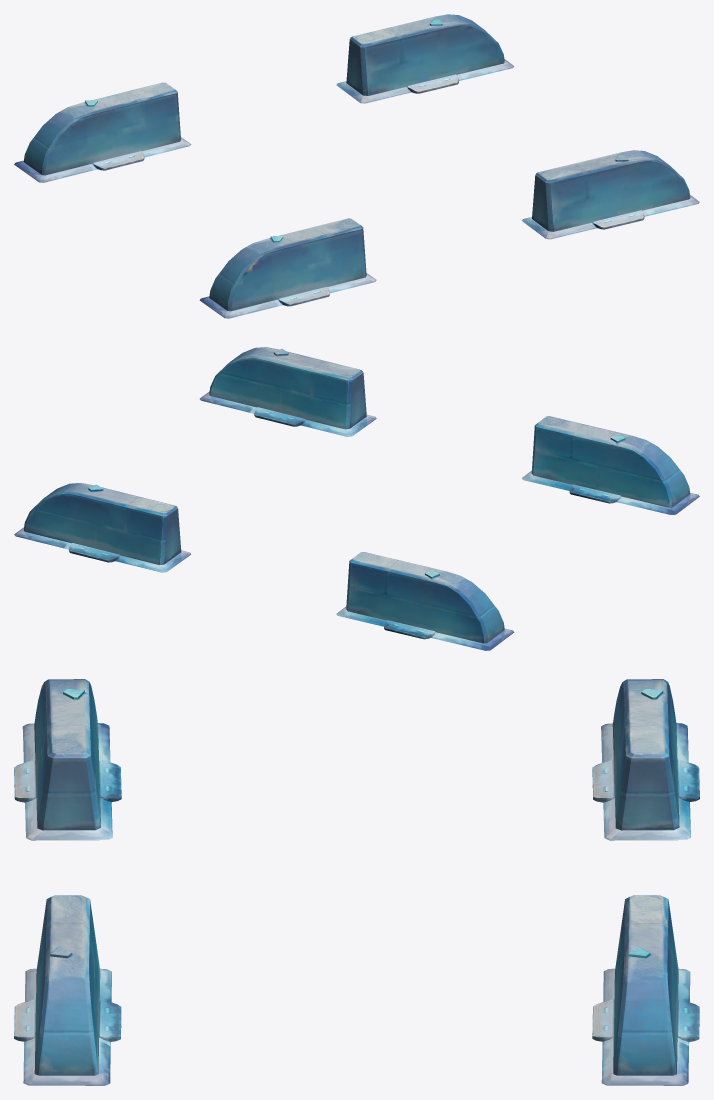
The model's file is pref_sm_beach_winter_bakegroups10_a_lv0.fbx.
3 renders of one model, top to bottom at view 1: azimuth 30°, elevation 25°; view 2: azimuth 150°, elevation 25°; view 3: azimuth 270°, elevation 25°, orthographic. The views are drawn at different scales.
Visible parts, largest first — view 1: pref_sm_beach_winter_bakegroups10_a_lv0; view 2: pref_sm_beach_winter_bakegroups10_a_lv0; view 3: pref_sm_beach_winter_bakegroups10_a_lv0.
Boxes of the visible parts, bbox=[...] form: pref_sm_beach_winter_bakegroups10_a_lv0: bbox=[14, 14, 699, 318]; pref_sm_beach_winter_bakegroups10_a_lv0: bbox=[14, 347, 699, 650]; pref_sm_beach_winter_bakegroups10_a_lv0: bbox=[14, 679, 699, 1085].
Bounding box in the file's own units: 16.93 × 1.79 × 13.54.
